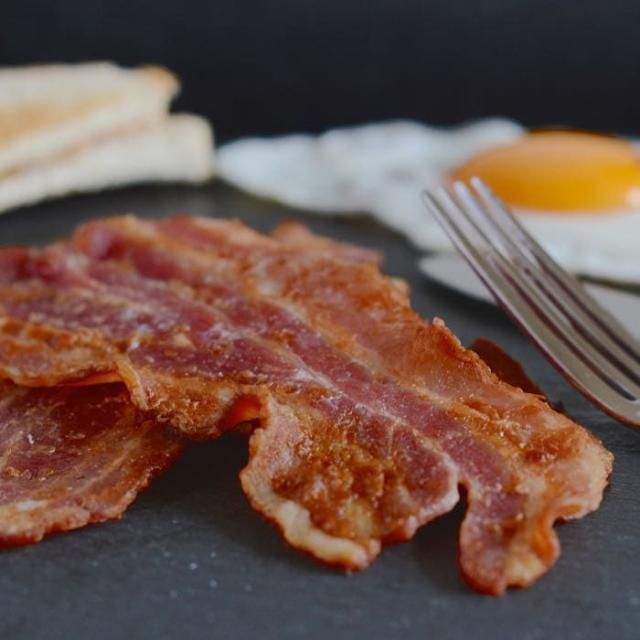Bacon: (72, 216, 611, 593), (0, 245, 459, 570), (0, 379, 185, 546)
